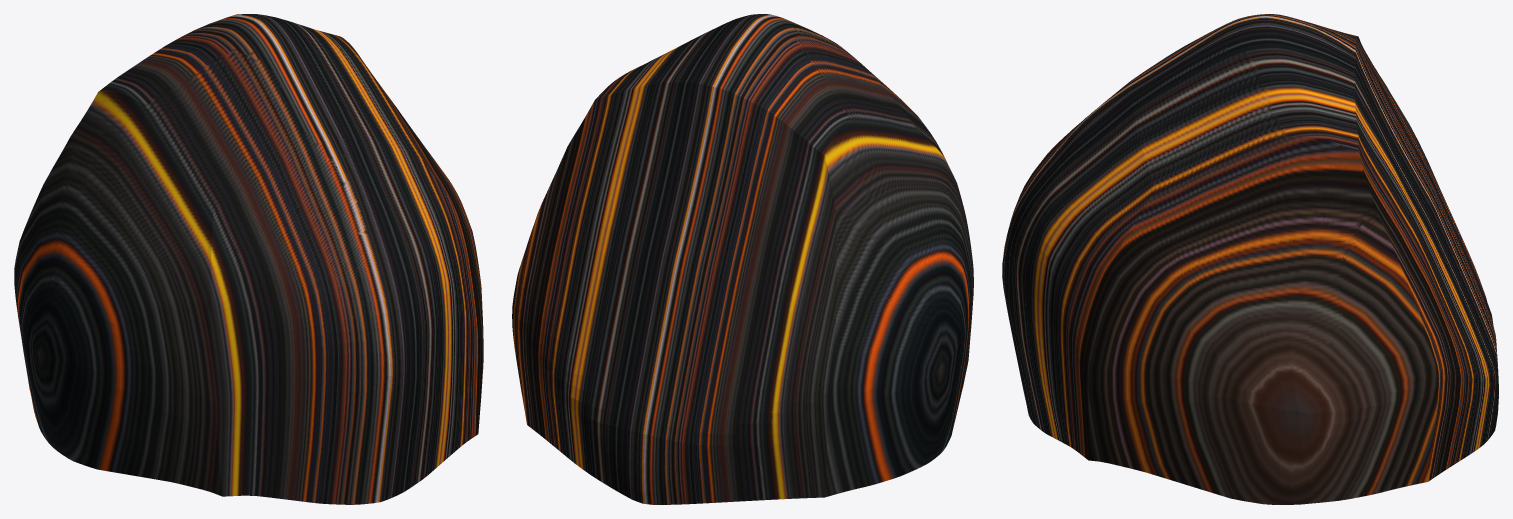
File: rock1.fbx
3 renders of one model, left to right at view 1: azimuth 30°, elevation 25°; view 2: azimuth 150°, elevation 25°; view 3: azimuth 270°, elevation 25°, orthographic.
Visible parts, largest first — view 1: Cube; view 2: Cube; view 3: Cube.
Boxes of the visible parts, bbox=[...] form: Cube: bbox=[14, 14, 483, 504]; Cube: bbox=[512, 14, 973, 504]; Cube: bbox=[1002, 14, 1498, 504].
Size of the model in its own units: 180 by 171 by 188.
Materials: 1 (1 with a texture image).
